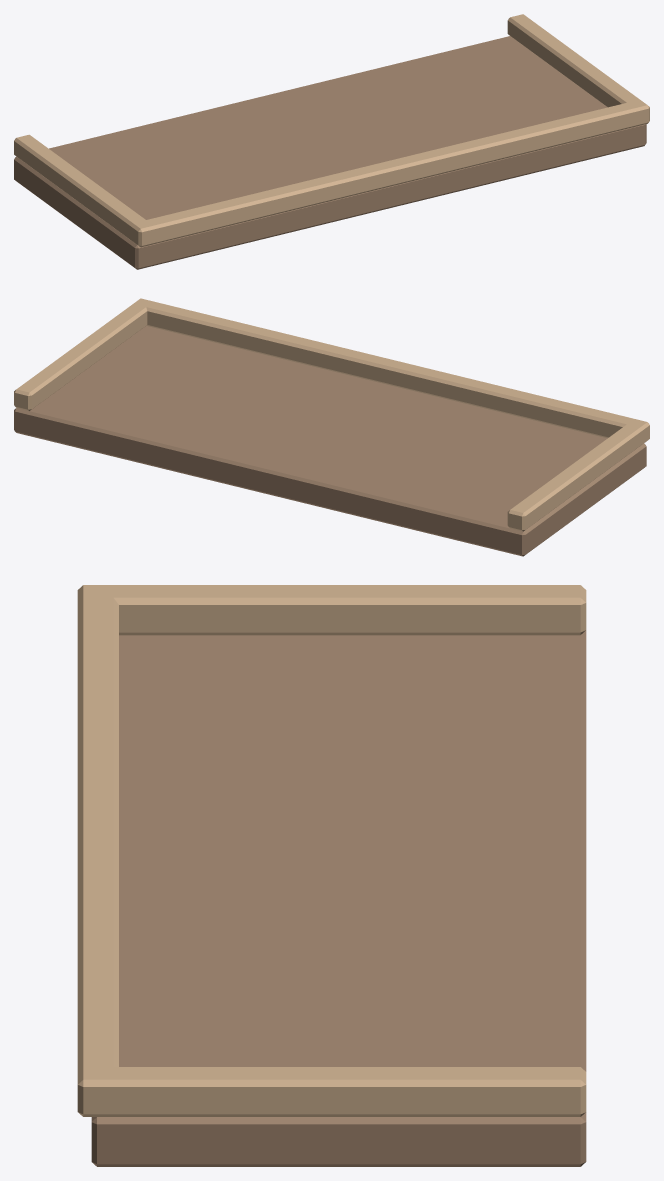
The model's file is Cap_2.glb.
3 views of the same model, one above another, from view 1: azimuth 30°, elevation 25°; view 2: azimuth 150°, elevation 25°; view 3: azimuth 270°, elevation 25° (orthographic). The views are drawn at different scales.
Parts seen in each view (by area): view 1: SpaceSaver_WallSys_Cap_2; view 2: SpaceSaver_WallSys_Cap_2; view 3: SpaceSaver_WallSys_Cap_2.
Part boxes in pixels (x1=…): SpaceSaver_WallSys_Cap_2: x1=14, y1=14, x2=649, y2=269; SpaceSaver_WallSys_Cap_2: x1=14, y1=298, x2=649, y2=556; SpaceSaver_WallSys_Cap_2: x1=77, y1=585, x2=586, y2=1166.
Bounding box in the file's own units: 0.86 × 0.07 × 0.37.
